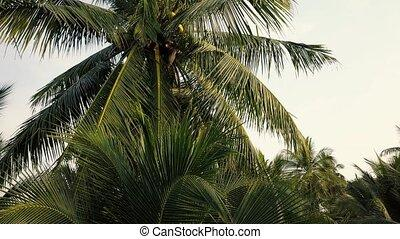coconut_tree: (0, 0, 321, 158)
